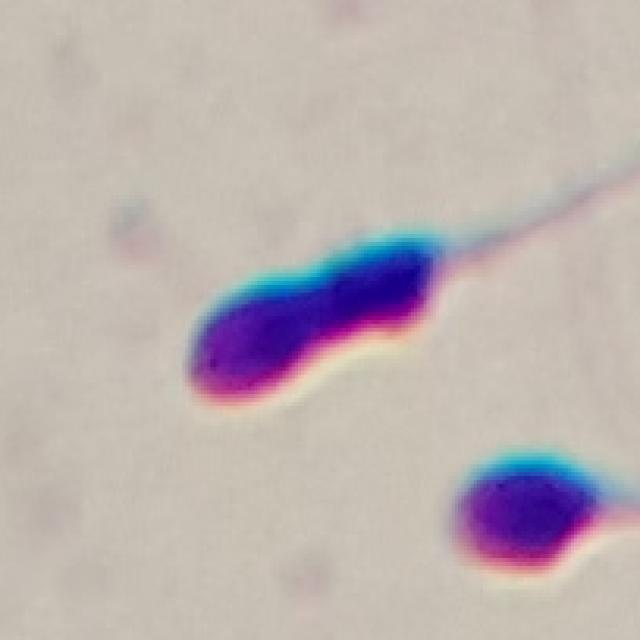abnormal sperm: (179, 201, 578, 413)
